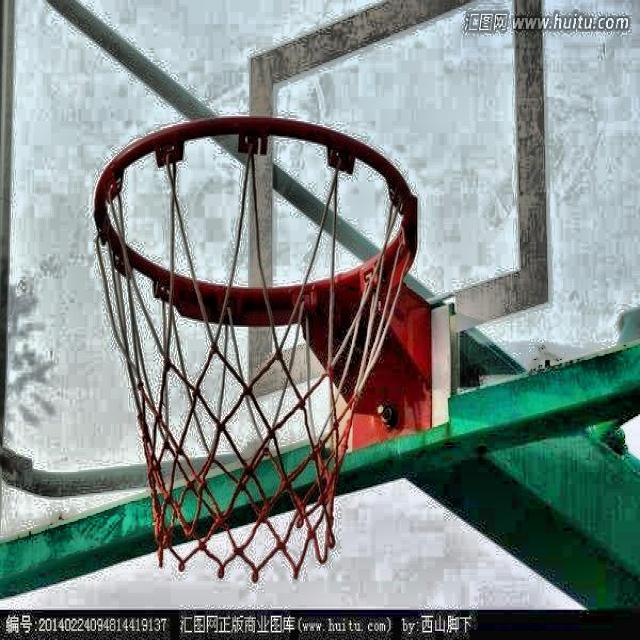rim: (95, 116, 415, 581)
